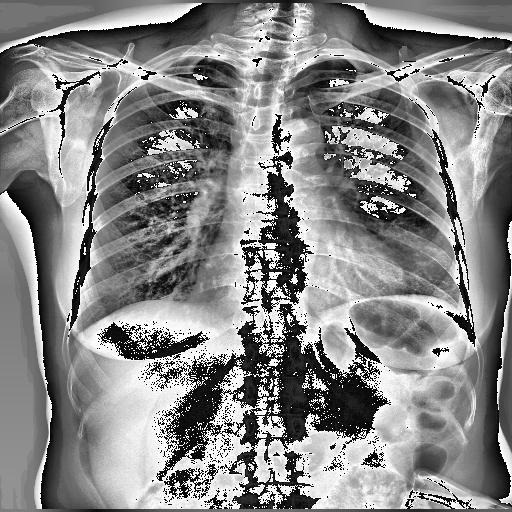0- Aortic enlargement: (283, 118, 323, 158)
3- Cardiomegaly: (193, 237, 400, 297), (190, 266, 408, 312), (188, 278, 410, 300)
6- Infiltration: (352, 220, 458, 296)
7- Lung Opacity: (375, 221, 458, 300)
9- Other lesion: (375, 221, 458, 300)
